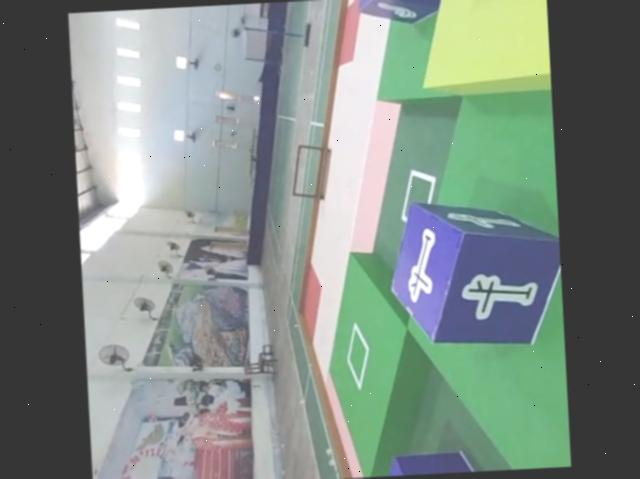R2 Real Blue: (385, 192, 565, 347), (377, 445, 505, 477), (358, 0, 461, 28)
